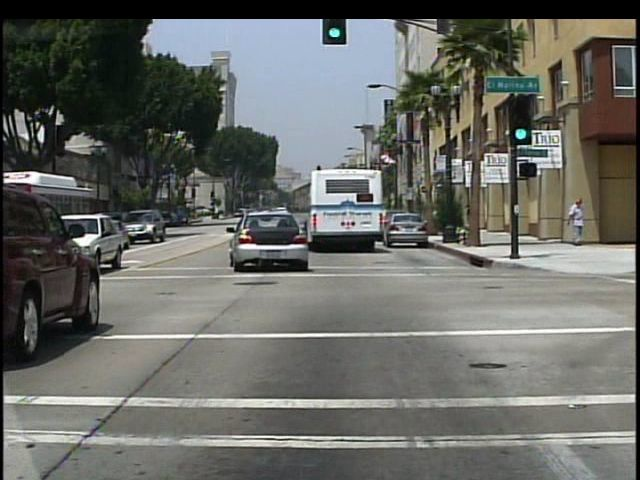person: (567, 199, 587, 248)
